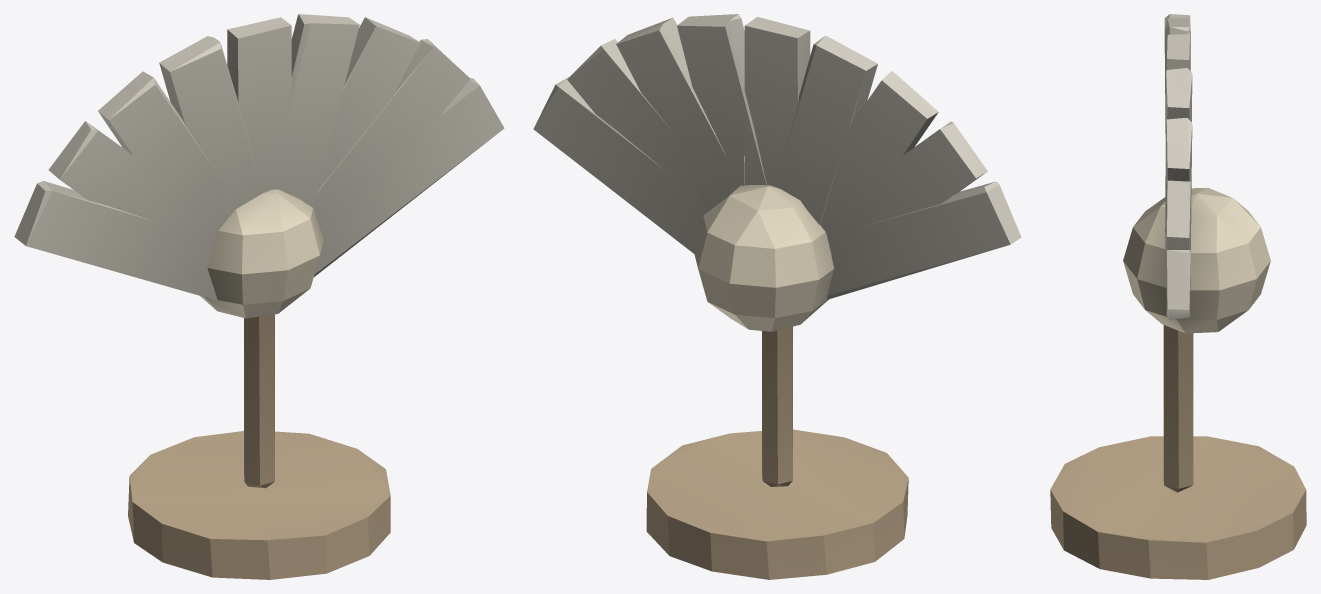
Rendered from furn_shell_lamp__cream_low.glb.
3 renders of one model, left to right at view 1: azimuth 30°, elevation 25°; view 2: azimuth 150°, elevation 25°; view 3: azimuth 270°, elevation 25°, orthographic. The views are drawn at different scales.
Size of the model in its own units: 0.5773 by 0.5745 by 0.2774.
